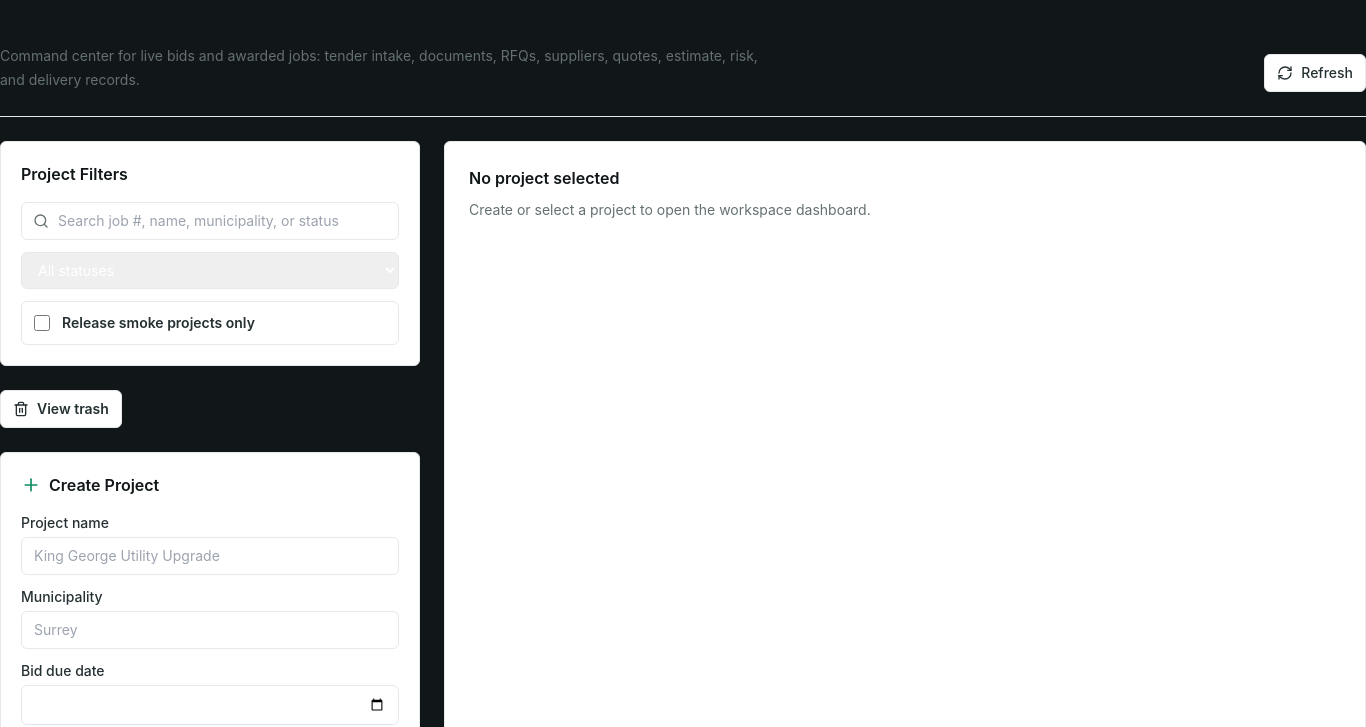
it: ProjectWorkspacePage › preserves partial progress and the exact failing record after a cleanup request fails
Click the checkbox labelled "Release smoke projects only".
click(42, 323)  # box [34, 315, 50, 331]
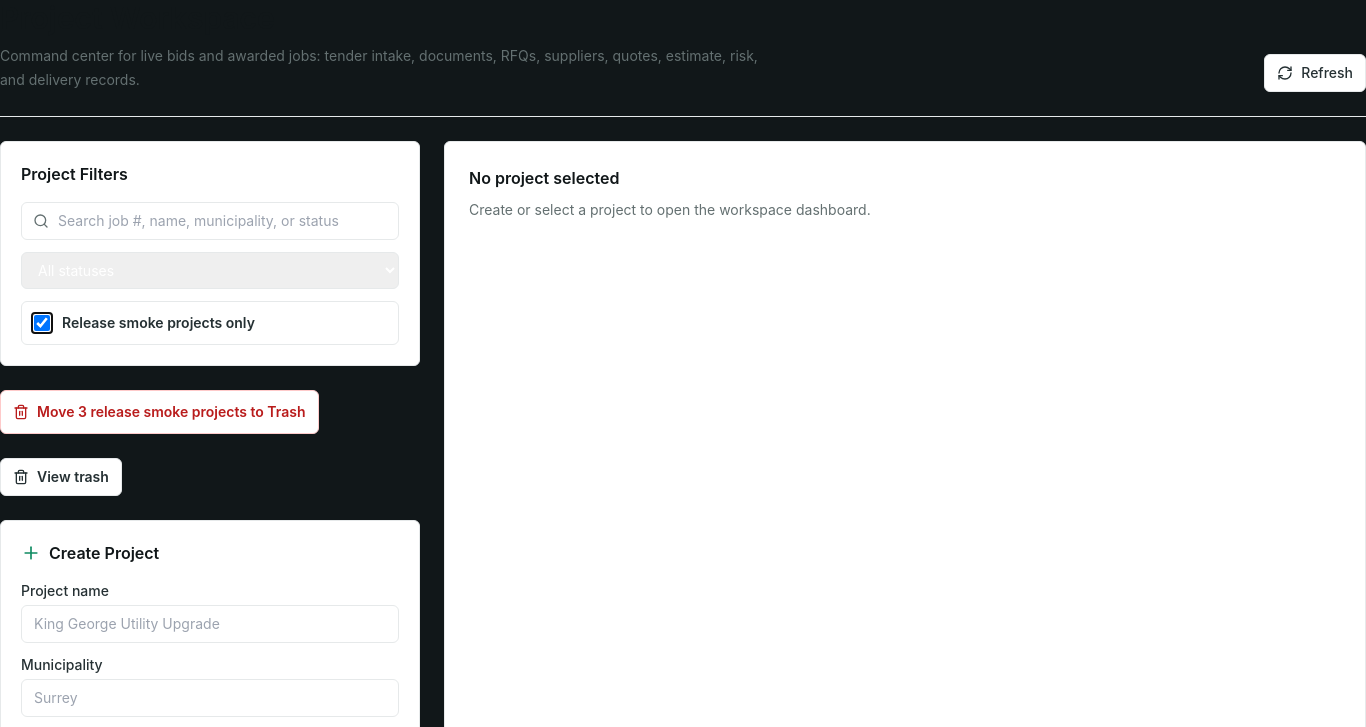
Click the button "Move 3 release smoke projects to Trash".
click(159, 412)  # box [0, 390, 318, 434]
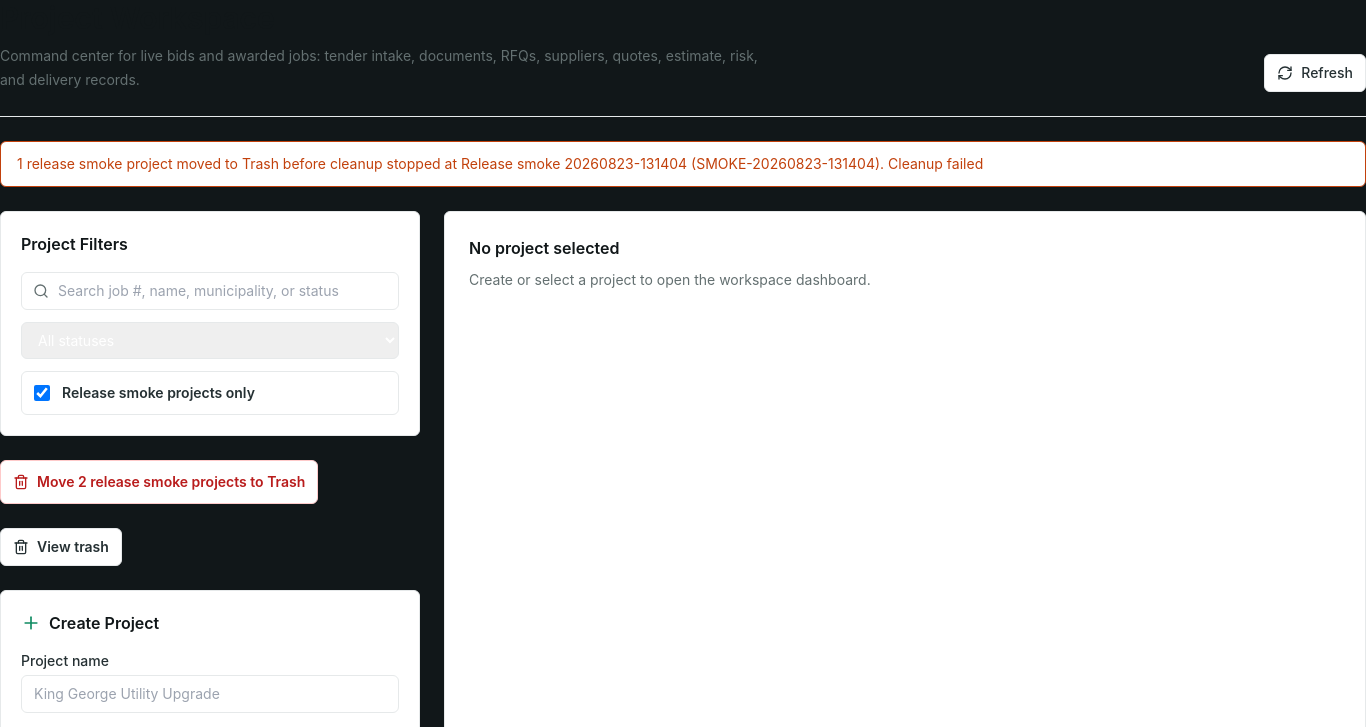
Now the text "1 release smoke project moved to Trash before cleanup stopped at Release smoke 20260823-131404 (SMOKE-20260823-131404). " is shown, box [17, 155, 983, 172]
Now the button "Move 2 release smoke projects to Trash" is shown, box [0, 460, 318, 504]
